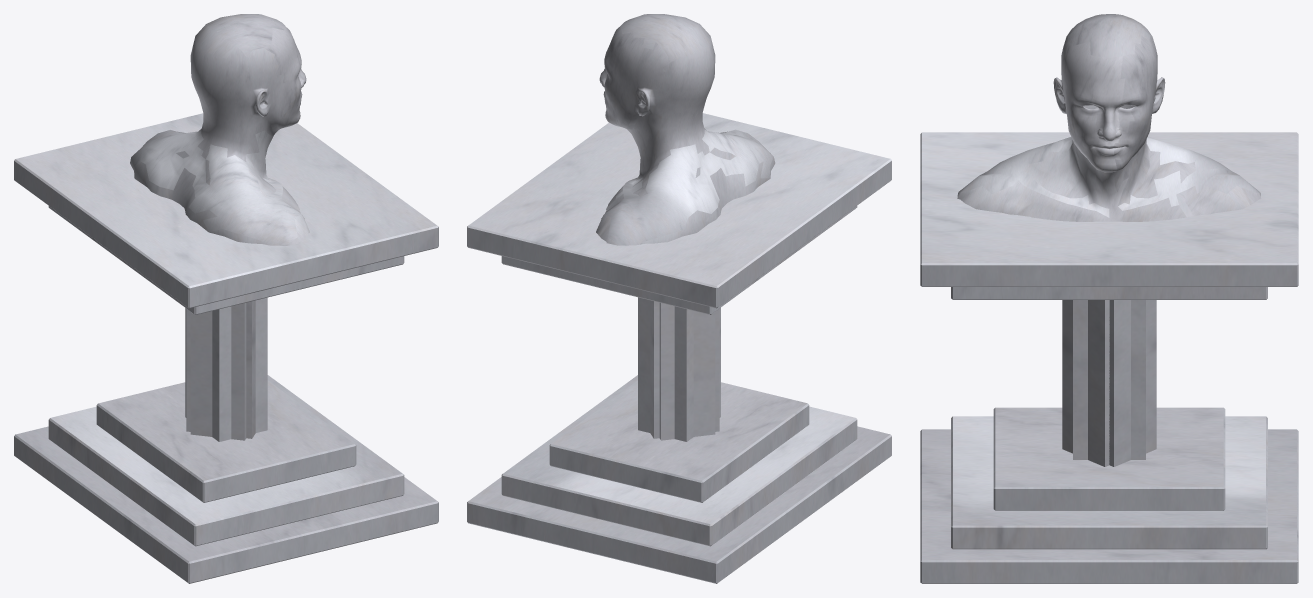
Rendered from Avatar.glb.
The picture shows the model from 3 angles, left to right: view 1: azimuth 30°, elevation 25°; view 2: azimuth 150°, elevation 25°; view 3: azimuth 270°, elevation 25°; orthographic projection. The views are drawn at different scales.
Parts seen in each view (by area): view 1: Cube, Man; view 2: Cube, Man; view 3: Cube, Man.
Part boxes in pixels (box(x1,y1,x2,y2)): Cube: box(14, 113, 438, 583); Man: box(130, 14, 309, 245); Cube: box(467, 113, 891, 583); Man: box(596, 14, 775, 245); Cube: box(920, 132, 1298, 583); Man: box(957, 14, 1261, 221).
Size of the model in its own units: 0.4743 by 0.845 by 0.5742.
1 material, 1 textured.
